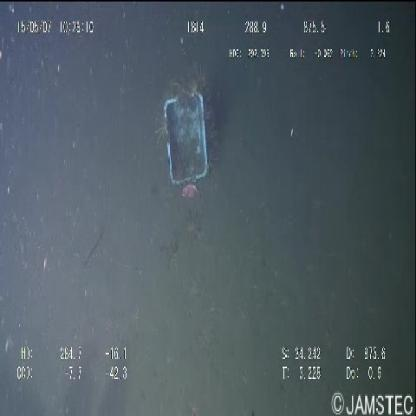Rác: (153, 77, 213, 200)
